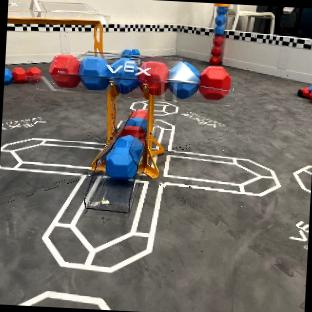V5_BLUE: (106, 135, 143, 178), (169, 62, 197, 97), (111, 56, 137, 92), (79, 56, 108, 88)
V5_RED: (199, 65, 229, 99), (139, 61, 168, 93), (49, 55, 78, 87), (12, 67, 39, 82), (210, 34, 223, 63)
blueingoal: (49, 49, 230, 102)
